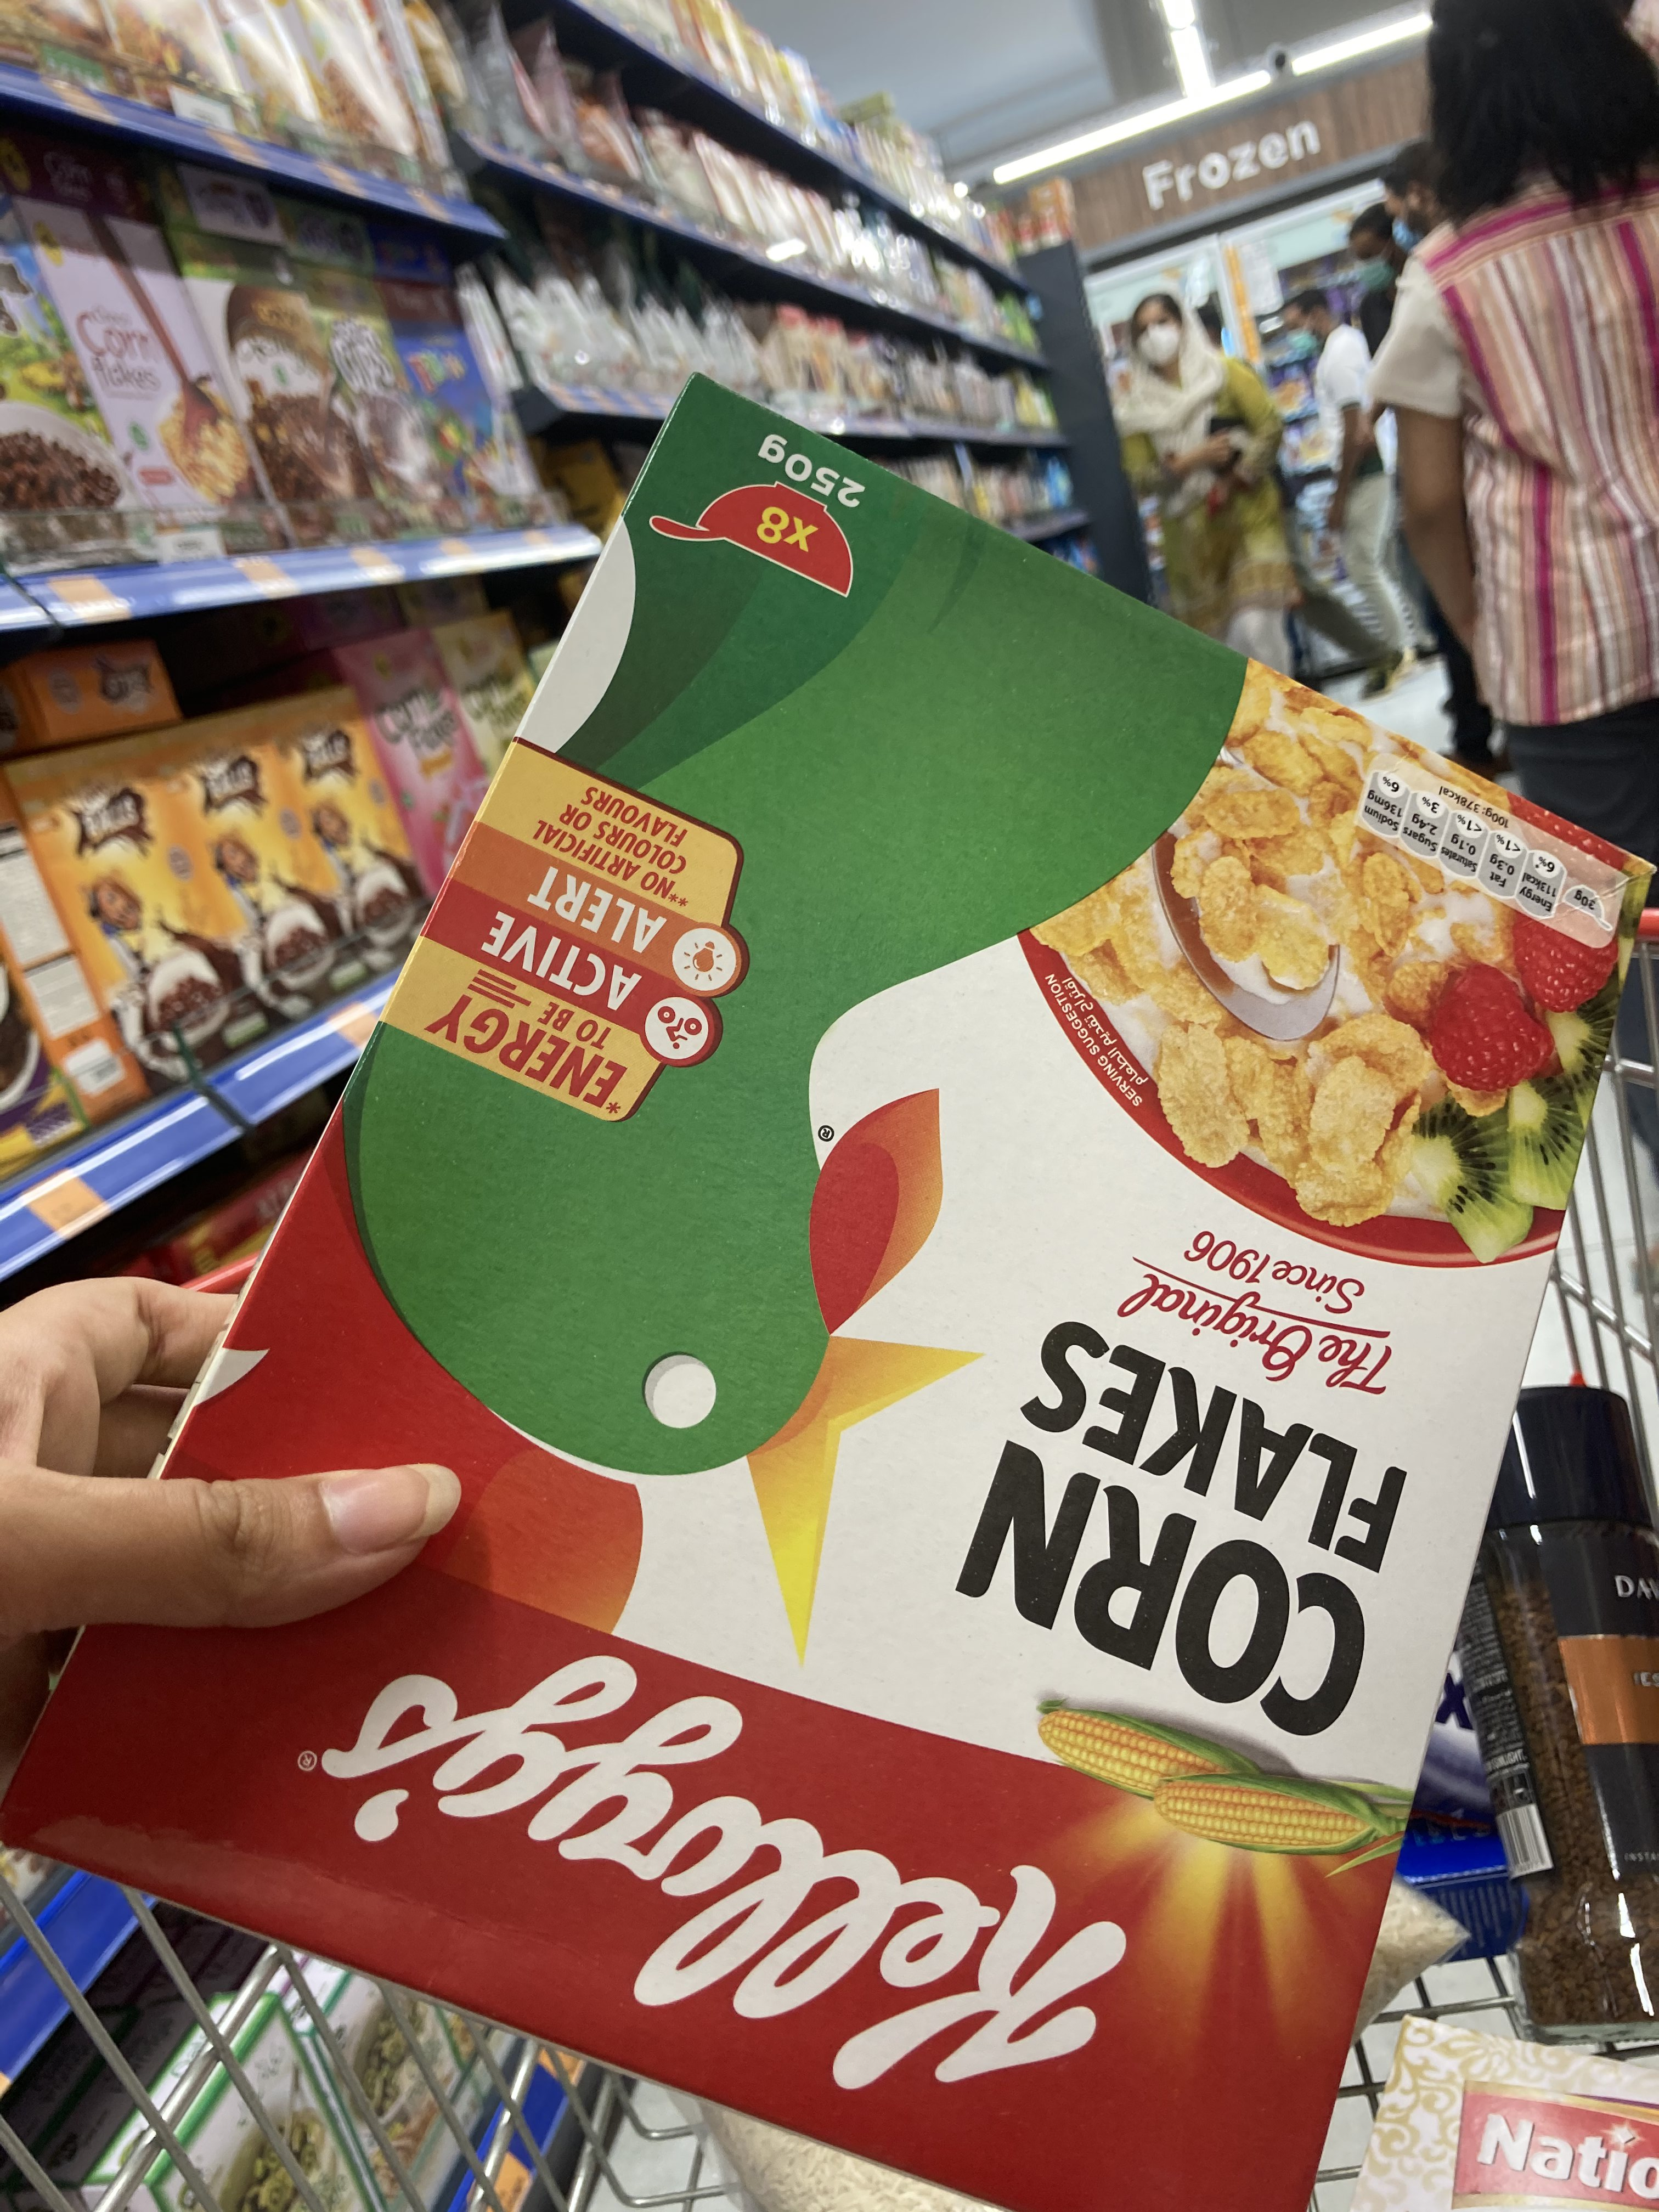Kellogg's Corn Flakes: (2, 366, 1659, 2212)
